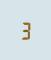three: (19, 19, 29, 40)
